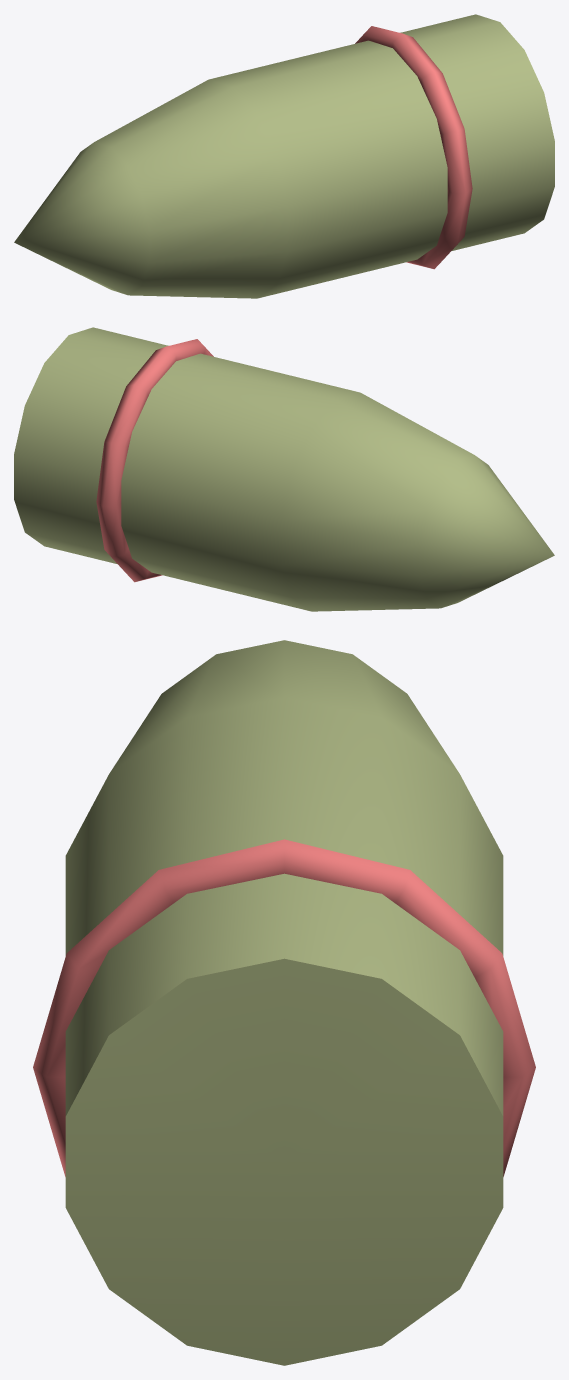
The model's file is ArtilleryStrikeLauncherEmit.fbx.
The picture shows the model from 3 angles, top to bottom: view 1: azimuth 30°, elevation 25°; view 2: azimuth 150°, elevation 25°; view 3: azimuth 270°, elevation 25°; orthographic projection. The views are drawn at different scales.
Parts seen in each view (by area): view 1: artillery_shell; view 2: artillery_shell; view 3: artillery_shell.
Boxes of the visible parts, box(x1,y1,x2,y2) form: artillery_shell: box(14, 14, 554, 298); artillery_shell: box(14, 327, 554, 611); artillery_shell: box(33, 640, 535, 1365).
Size of the model in its own units: 0.5 by 0.224 by 0.224.
